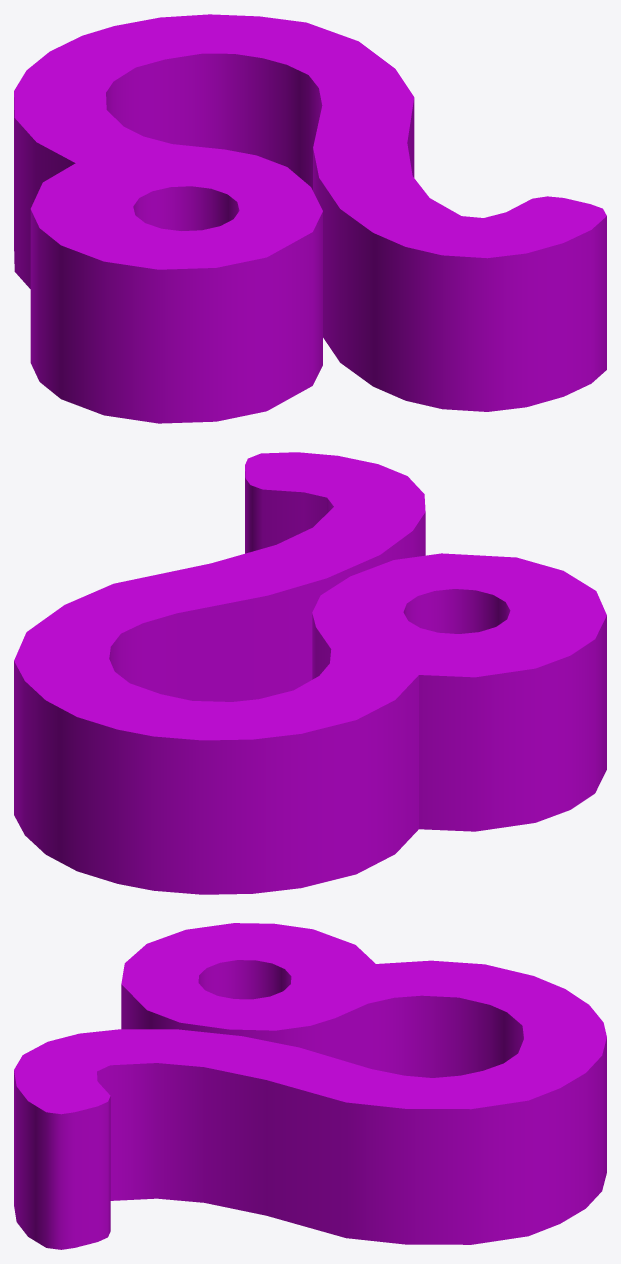
Rendered from leo.fbx.
3 renders of one model, top to bottom at view 1: azimuth 30°, elevation 25°; view 2: azimuth 150°, elevation 25°; view 3: azimuth 270°, elevation 25°, orthographic. The views are drawn at different scales.
Parts seen in each view (by area): view 1: 5.LEO; view 2: 5.LEO; view 3: 5.LEO.
Boxes of the visible parts, x1=… form: 5.LEO: x1=14, y1=14, x2=606, y2=423; 5.LEO: x1=14, y1=452, x2=606, y2=894; 5.LEO: x1=14, y1=923, x2=606, y2=1249.
Bounding box in the file's own units: 108 × 35.7 × 141.
